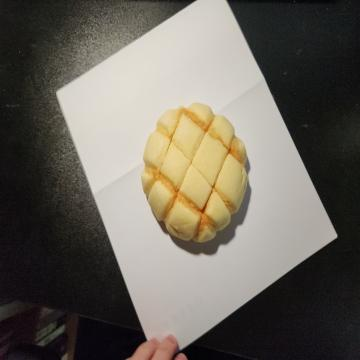melon_bread: (140, 103, 250, 247)
